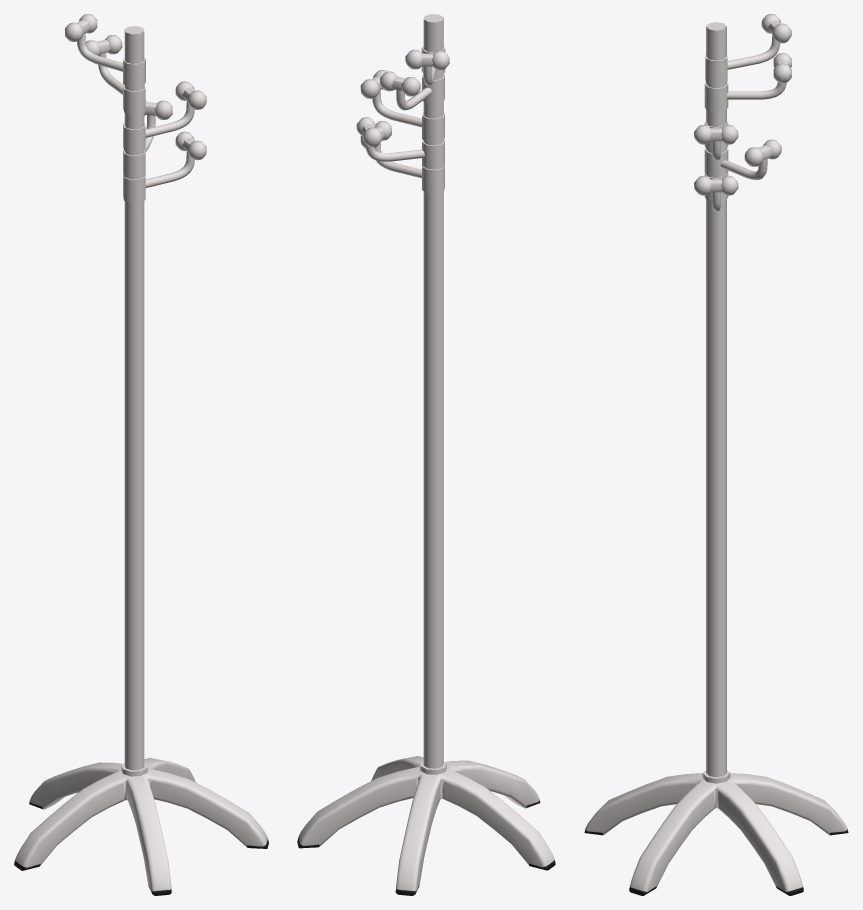
Rendered from LC_3186_hanger_LOD3.FBX.
The picture shows the model from 3 angles, left to right: view 1: azimuth 30°, elevation 25°; view 2: azimuth 150°, elevation 25°; view 3: azimuth 270°, elevation 25°; orthographic projection.
Visible parts, largest first — view 1: LC_3186_hanger_LOD3; view 2: LC_3186_hanger_LOD3; view 3: LC_3186_hanger_LOD3.
Boxes of the visible parts, x1,y1,x2,y2 form: LC_3186_hanger_LOD3: (14,14,268,895); LC_3186_hanger_LOD3: (297,14,555,895); LC_3186_hanger_LOD3: (584,14,848,895).
Size of the model in its own units: 48.55 by 175 by 50.96.
Materials: 1 (1 with a texture image).
